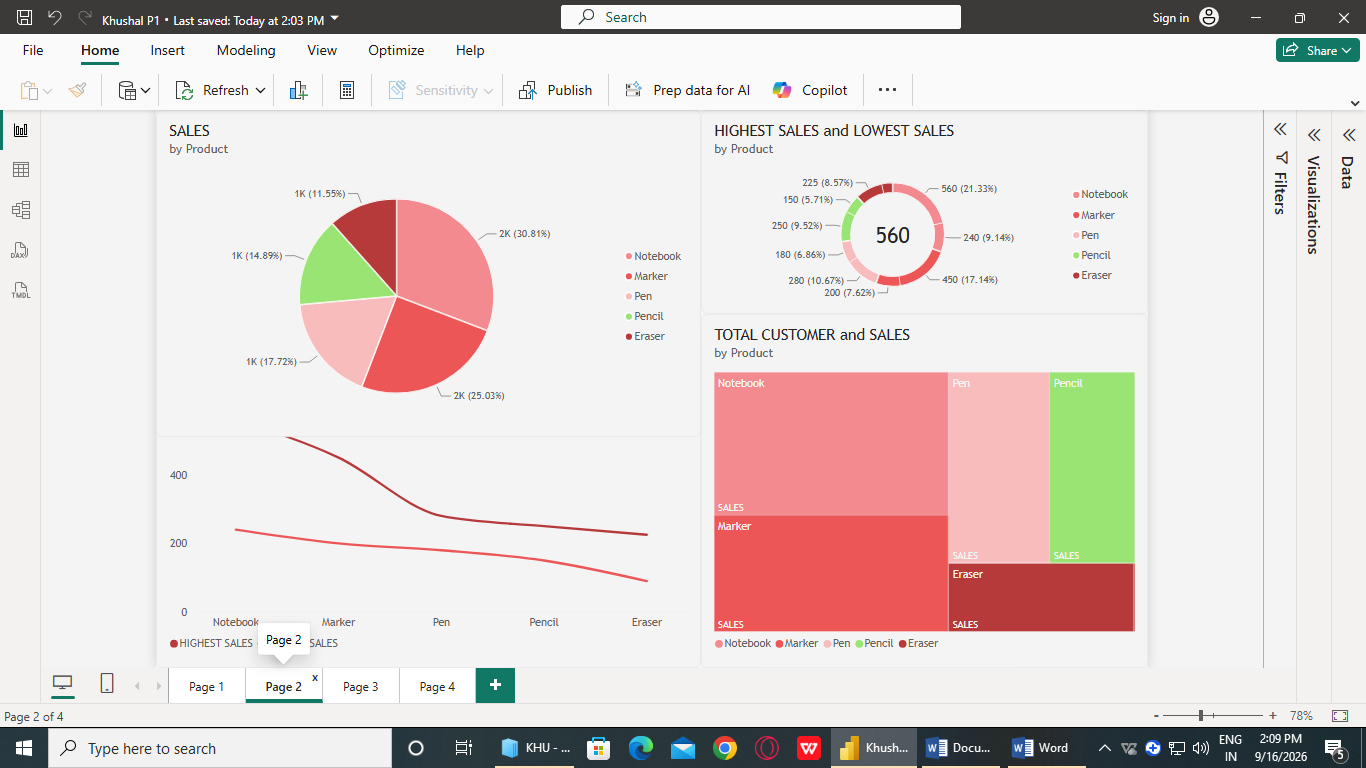

What the dashboard file says about the page in this screenshot:
{"tool":"powerbi","page":{"name":"Page 2","canvas":[1280,720],"ordinal":1},"visuals":[{"type":"treemap","fields":{"Group":["SALES.Product"],"Values":["SALES.TOTAL CUSTOMER","SALES.SALES"]},"box":[703.3,263.3,576.7,456.7],"z":0},{"type":"lineChart","fields":{"Y":["SALES.HIGHEST SALES","SALES.LOWEST SALES"],"Category":["SALES.Product"]},"box":[0,298.3,703.3,421.7],"z":1000},{"type":"pieChart","fields":{"Category":["SALES.Product"],"Y":["SALES.SALES"]},"box":[0,0,703,422],"z":2000},{"type":"donutChart","fields":{"Y":["SALES.HIGHEST SALES","SALES.LOWEST SALES"],"Category":["SALES.Product"]},"box":[703.3,0,576.7,263.3],"z":3000}]}

Visuals, with their boxes on the page's 1280x720 design canvas (x1, y1, x2, y2). These are canvas units, not pixel positions in the 1366x768 screenshot, which may show the page scaled, cropped or inside an application window:
treemap - SALES.Product x SALES.TOTAL CUSTOMER: [703,263,1280,720]
lineChart - SALES.HIGHEST SALES x SALES.LOWEST SALES: [0,298,703,720]
pieChart - SALES.Product x SALES.SALES: [0,0,703,422]
donutChart - SALES.HIGHEST SALES x SALES.LOWEST SALES: [703,0,1280,263]
